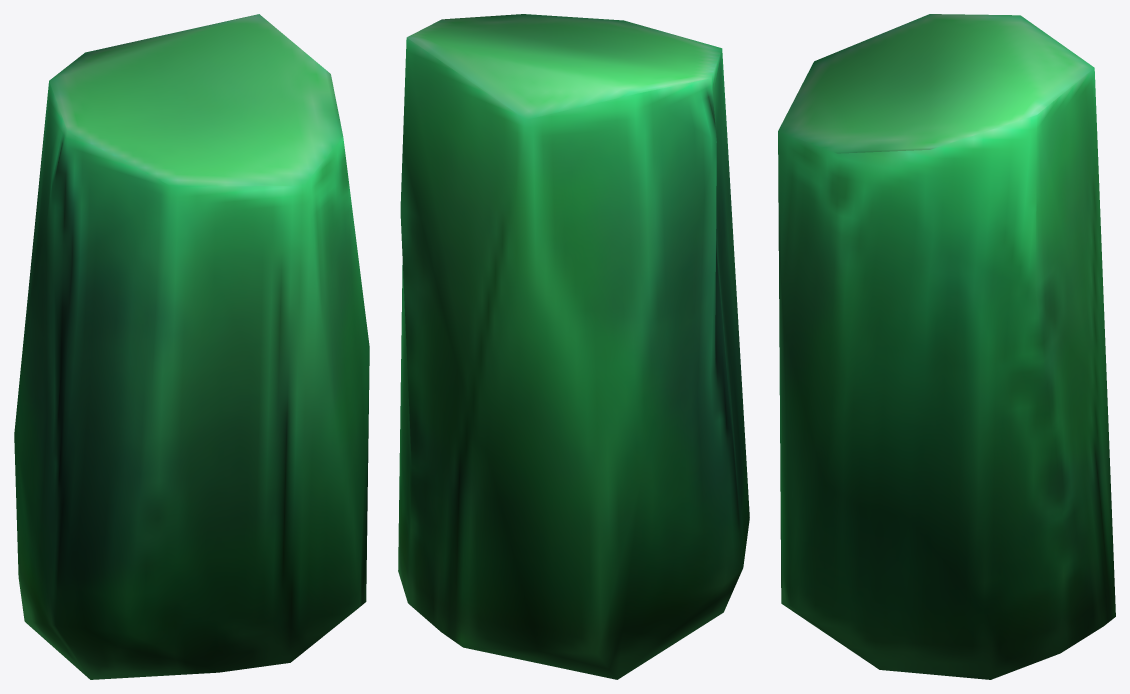
Rendered from SM_Gem_Emerald_Piece_001.fbx.
3 views of the same model, side by side, from view 1: azimuth 30°, elevation 25°; view 2: azimuth 150°, elevation 25°; view 3: azimuth 270°, elevation 25° (orthographic). The views are drawn at different scales.
Parts seen in each view (by area): view 1: SM_Gem_Emerald_Piece_001; view 2: SM_Gem_Emerald_Piece_001; view 3: SM_Gem_Emerald_Piece_001.
Part boxes in pixels (<box>): SM_Gem_Emerald_Piece_001: <box>14,14,369,679</box>; SM_Gem_Emerald_Piece_001: <box>398,14,749,679</box>; SM_Gem_Emerald_Piece_001: <box>778,14,1115,679</box>.
Bounding box in the file's own units: 10.01 × 17.59 × 9.46.
